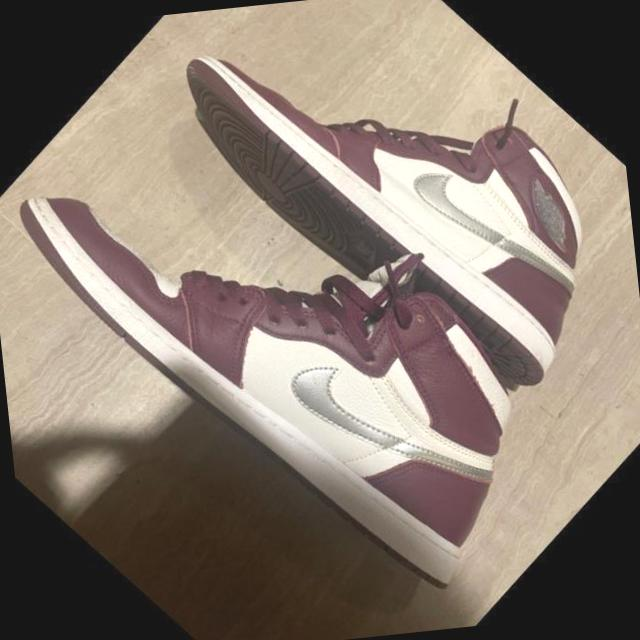nike_original_jordan: (0, 1, 619, 640), (143, 0, 640, 455)
